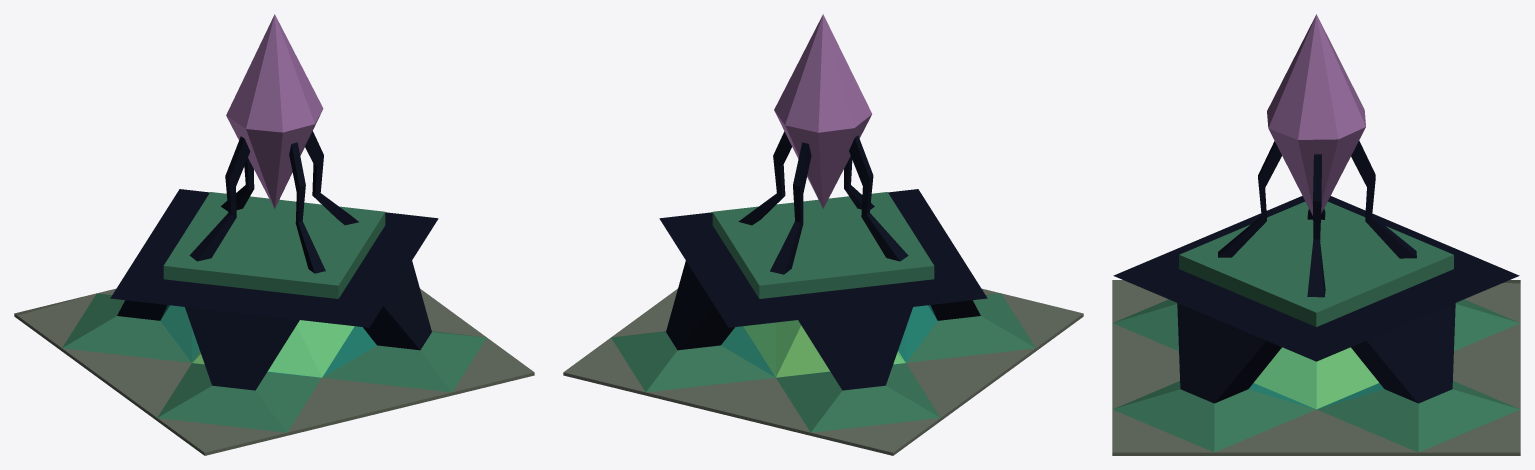
Rendered from BaseHeart.fbx.
The picture shows the model from 3 angles, left to right: view 1: azimuth 30°, elevation 25°; view 2: azimuth 150°, elevation 25°; view 3: azimuth 270°, elevation 25°; orthographic projection. The views are drawn at different scales.
Visible parts, largest first — view 1: Platform, Crystal, glass4, glass3; view 2: Platform, Crystal, glass2, glass3; view 3: Platform, Crystal, glass1.
Part boxes in pixels (box(x1,y1,x2,y2)): Platform: box(14, 189, 534, 455); Crystal: box(163, 14, 385, 298); glass4: box(267, 320, 376, 377); glass3: box(160, 305, 204, 364); Platform: box(563, 189, 1083, 455); Crystal: box(712, 14, 934, 298); glass2: box(721, 320, 830, 377); glass3: box(893, 305, 937, 364); Platform: box(1112, 196, 1520, 455); Crystal: box(1179, 14, 1453, 326); glass1: box(1249, 347, 1383, 409).
Size of the model in its own units: 3147 by 3027 by 3147.
